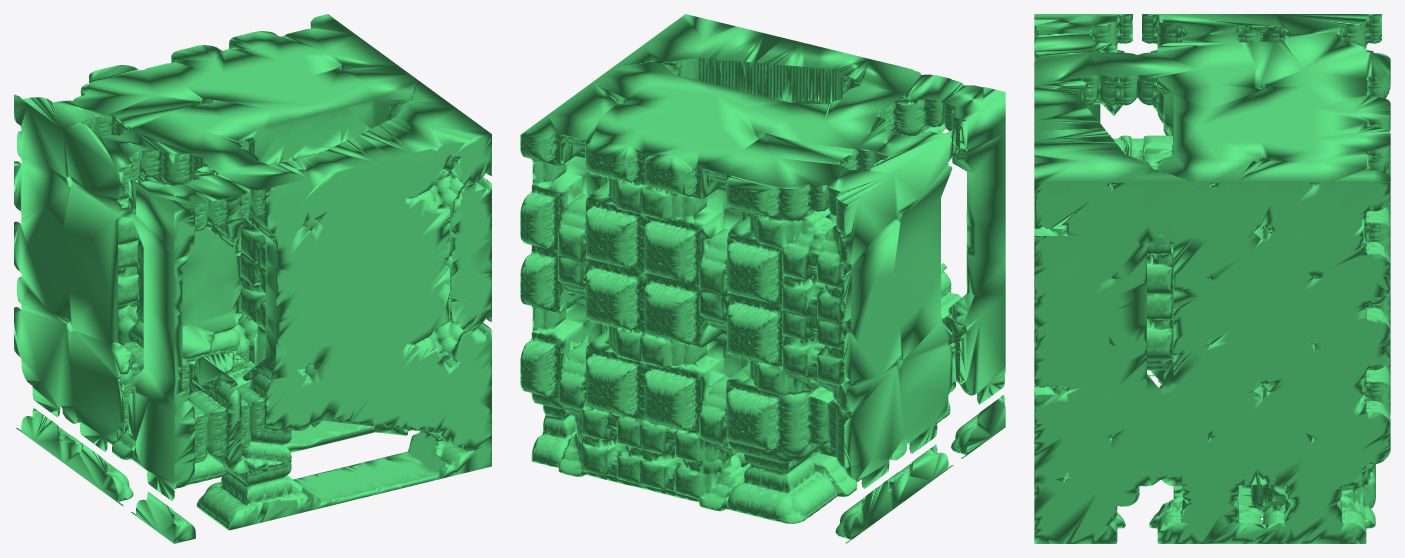
Rendered from Jcube1.glb.
The picture shows the model from 3 angles, left to right: view 1: azimuth 30°, elevation 25°; view 2: azimuth 150°, elevation 25°; view 3: azimuth 270°, elevation 25°; orthographic projection. The views are drawn at different scales.
Visible parts, largest first — view 1: jcube; view 2: jcube; view 3: jcube.
Boxes of the visible parts, bbox=[...] form: jcube: bbox=[14, 14, 491, 543]; jcube: bbox=[520, 14, 1005, 543]; jcube: bbox=[1034, 14, 1390, 543].
Size of the model in its own units: 32767 by 32767 by 29299.
